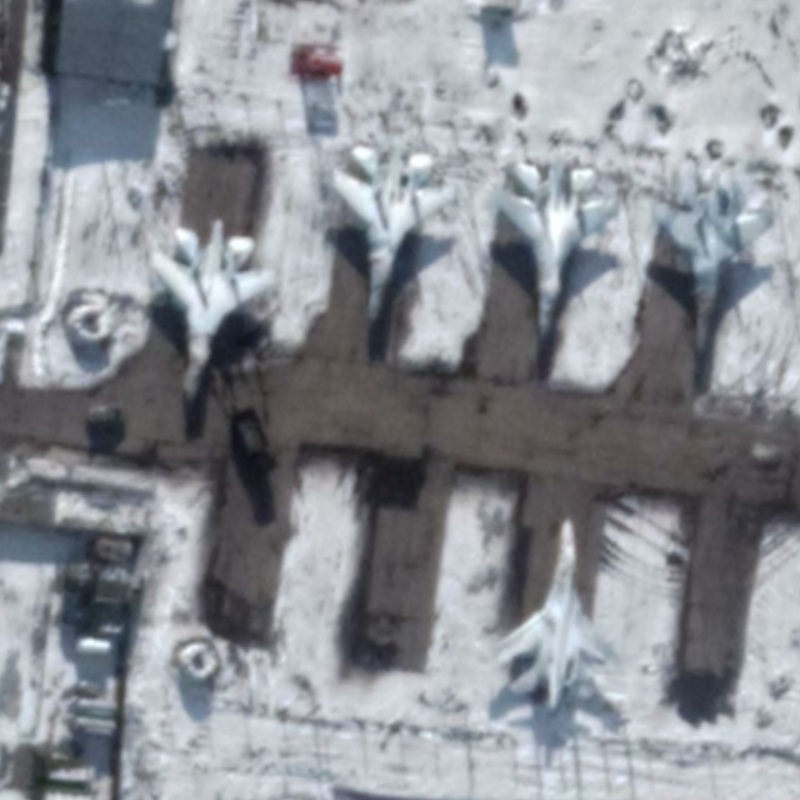A1: (489, 152, 625, 342), (144, 216, 281, 404), (328, 142, 462, 323), (649, 176, 779, 362), (494, 514, 610, 716)
